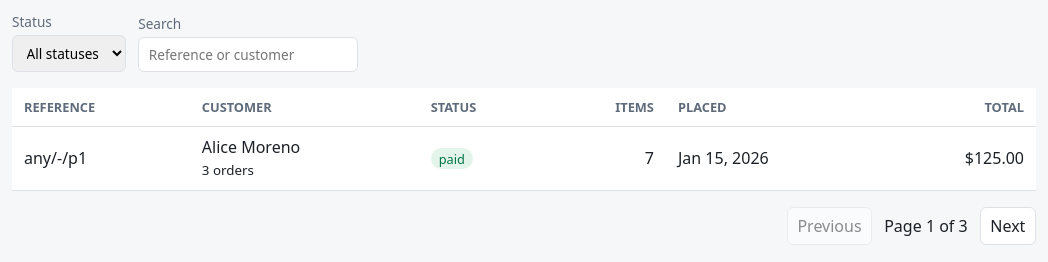
Test case: OrdersTable › debounces search and keeps the status filter
Expected: the text "any/-/p1" is shown, [12,126,190,190]
Select "paid" in the dropdown labelled "Status" at (69, 54), box [12,35,126,72]
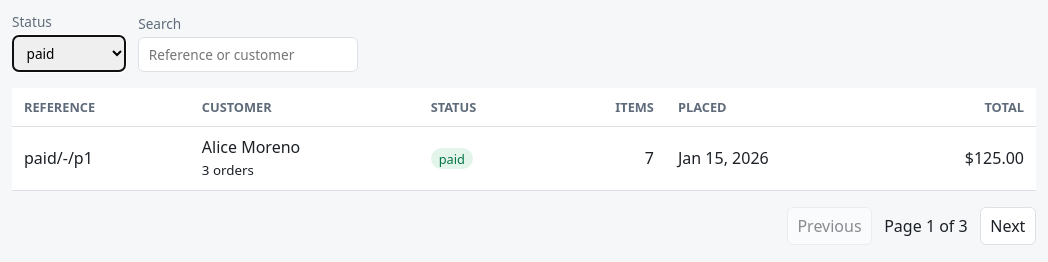
Expected: the text "paid/-/p1" is shown, [12,126,190,190]
Type "Moreno" into the search field labelled "Search".
click(248, 55); type("Moreno")  # box [138,37,358,72]
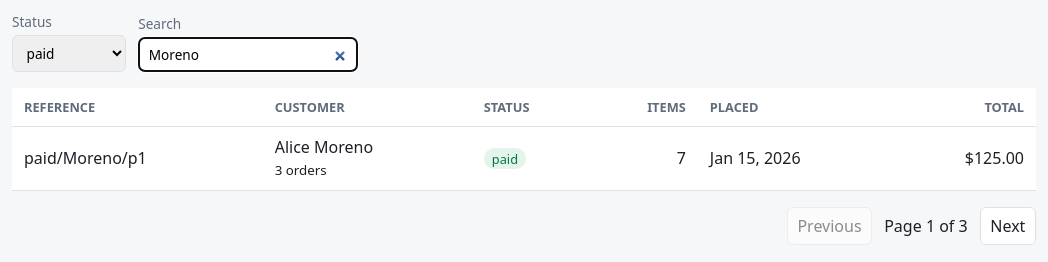
Expected: the text "paid/Moreno/p1" is shown, [12,126,263,190]
